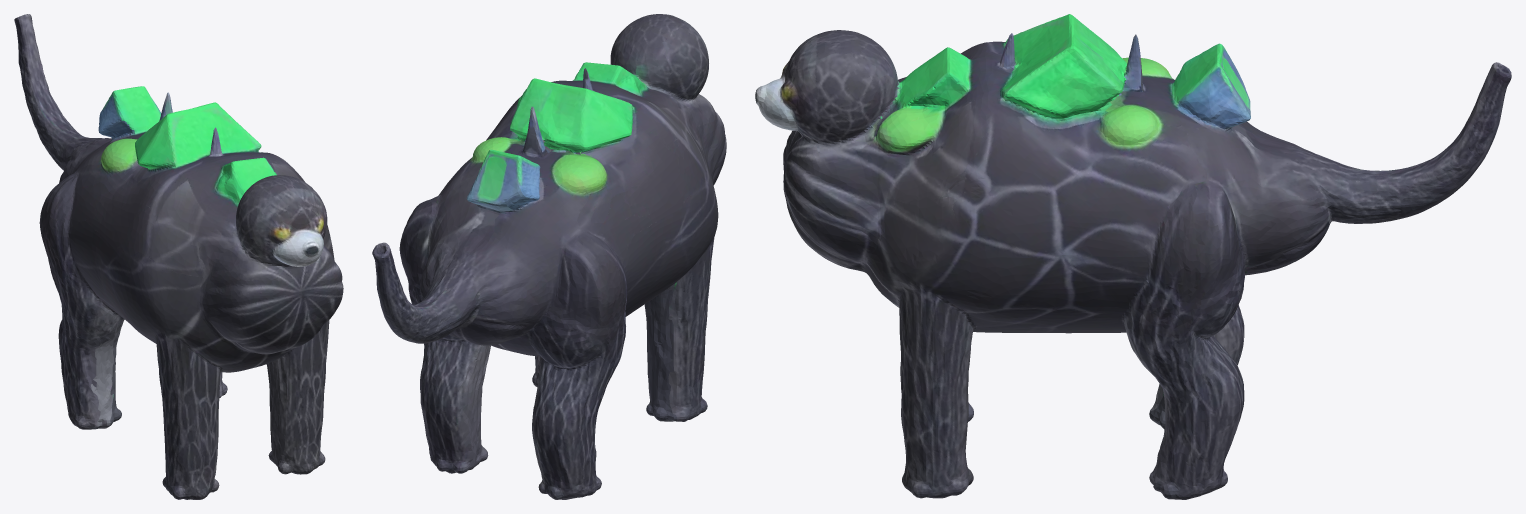
The model's file is creature-101.glb.
The picture shows the model from 3 angles, left to right: view 1: azimuth 30°, elevation 25°; view 2: azimuth 150°, elevation 25°; view 3: azimuth 270°, elevation 25°; orthographic projection. The views are drawn at different scales.
Parts seen in each view (by area): view 1: tmpzxxnqogl.ply; view 2: tmpzxxnqogl.ply; view 3: tmpzxxnqogl.ply.
Boxes of the visible parts, bbox=[...] form: tmpzxxnqogl.ply: bbox=[14, 14, 343, 499]; tmpzxxnqogl.ply: bbox=[372, 14, 726, 499]; tmpzxxnqogl.ply: bbox=[755, 14, 1511, 499].
Bounding box in the file's own units: 0.7764 × 1.25 × 1.99.
1 material, 1 textured.
